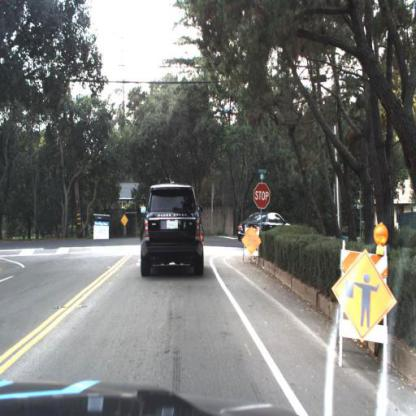car: (141, 184, 205, 278), (236, 211, 291, 247)
